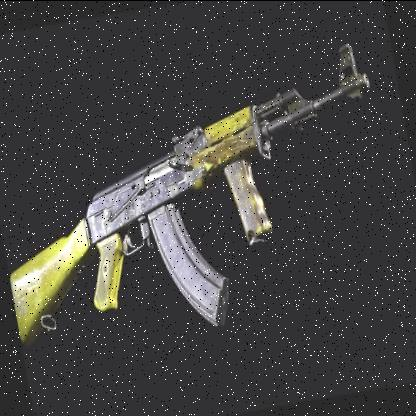rifle: (0, 39, 404, 347)
